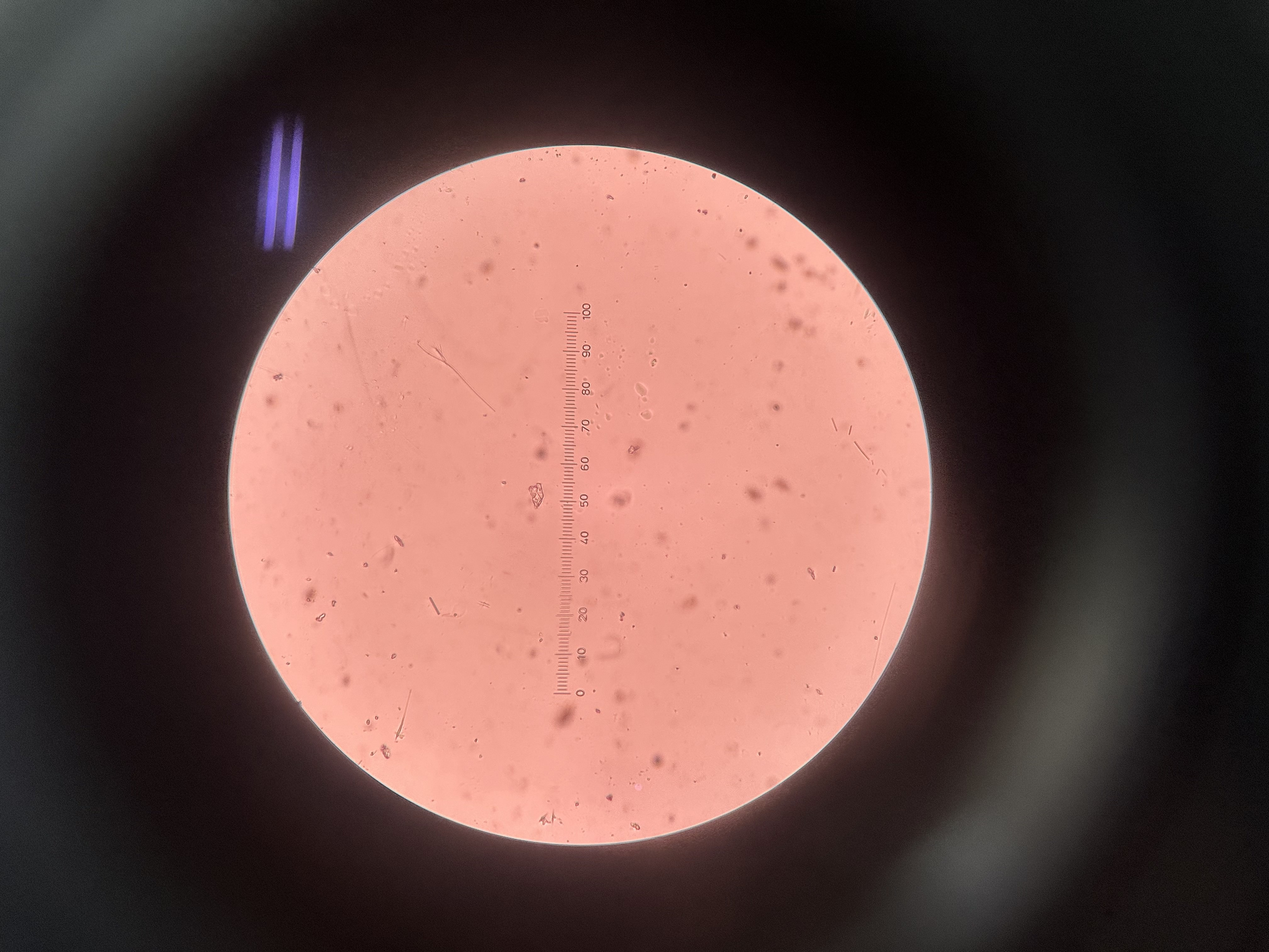not_microplastic: (414, 335, 498, 412), (391, 687, 412, 740), (527, 477, 545, 510), (377, 742, 397, 761)
